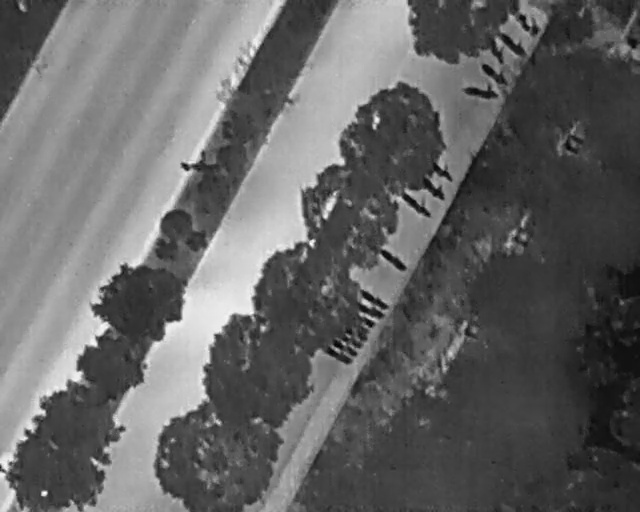Bicycle: (495, 23, 533, 62), (511, 3, 548, 42), (395, 187, 436, 222), (412, 170, 450, 204), (375, 243, 413, 276), (477, 58, 513, 91), (425, 153, 461, 185), (354, 282, 391, 313), (483, 29, 512, 68), (346, 296, 386, 322), (459, 77, 501, 101), (322, 343, 357, 369), (342, 317, 375, 343), (329, 336, 360, 358), (337, 330, 365, 351), (351, 310, 379, 330)
